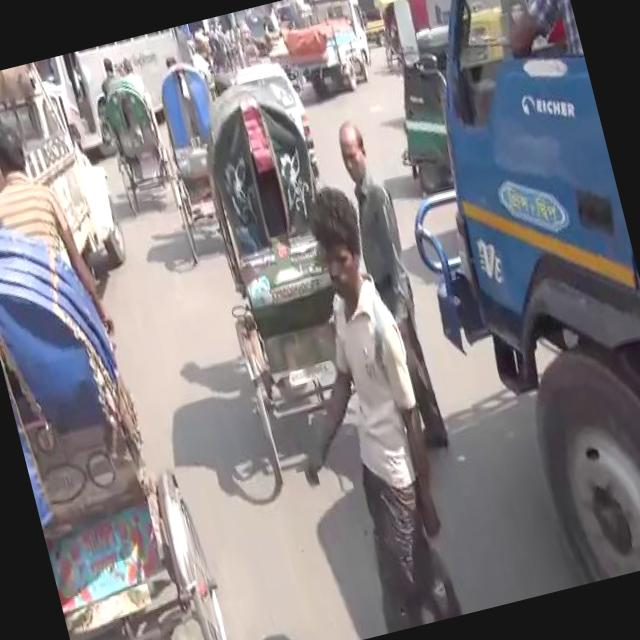bus: (39, 27, 199, 158)
motorcycle: (0, 192, 243, 640), (172, 61, 402, 491), (146, 53, 250, 263), (90, 60, 182, 223), (200, 23, 236, 69), (234, 17, 258, 61)
truck: (345, 0, 640, 598), (0, 50, 137, 321), (277, 0, 376, 89), (368, 0, 410, 16)
